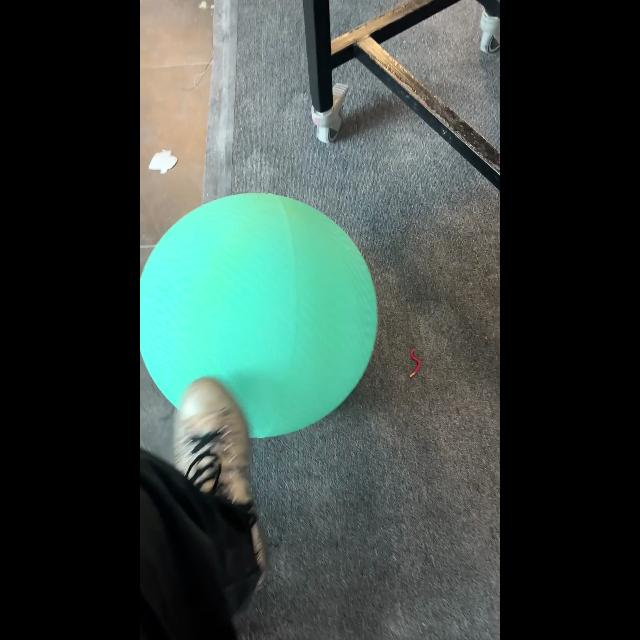ALGAE: (141, 192, 379, 438)
